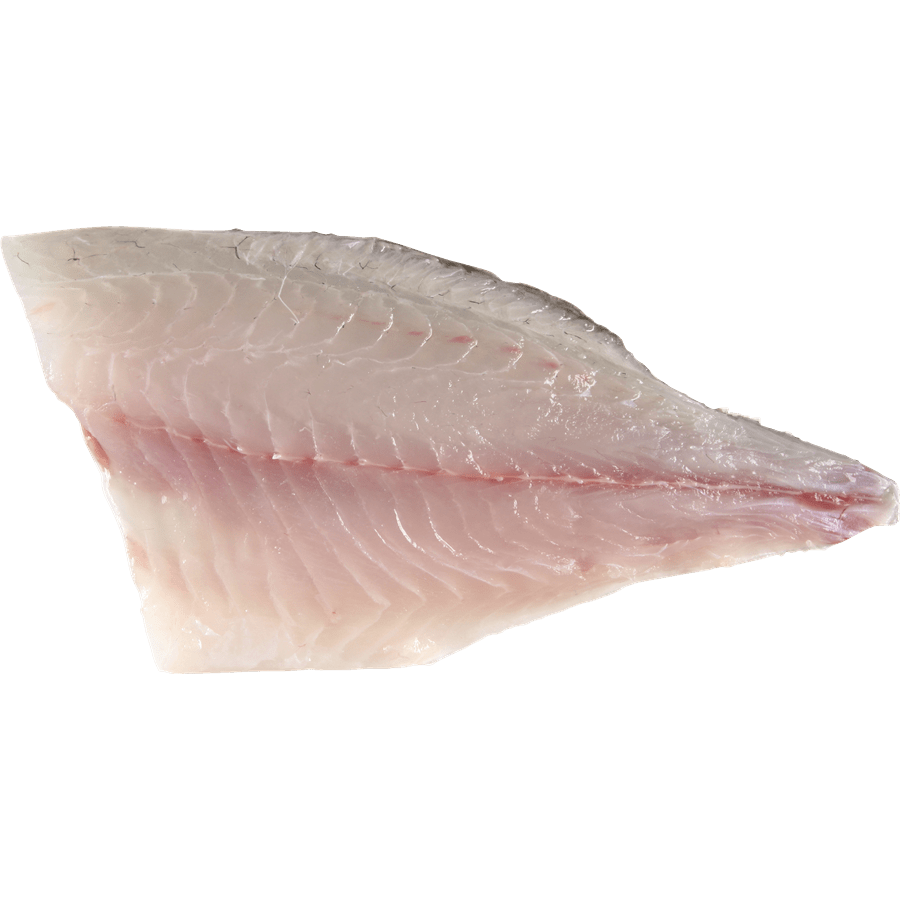bream-fish: (0, 226, 900, 676)
